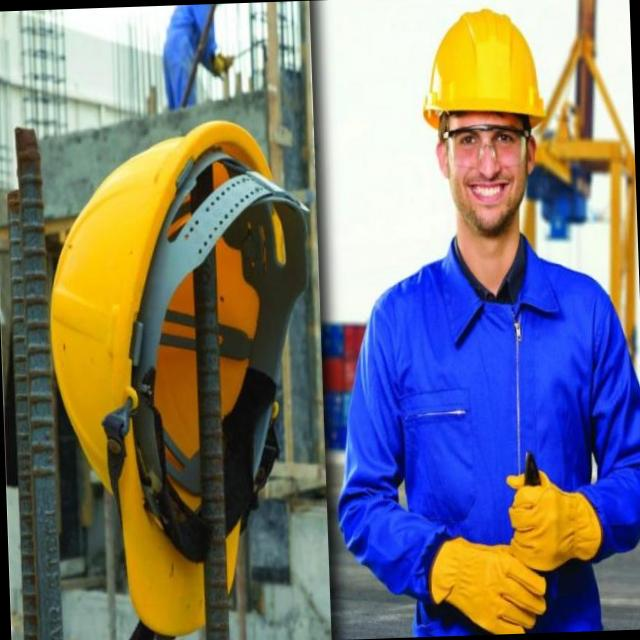Gloves: (494, 471, 618, 566), (440, 527, 546, 633)
Helmet: (19, 106, 336, 614), (412, 6, 555, 124)
